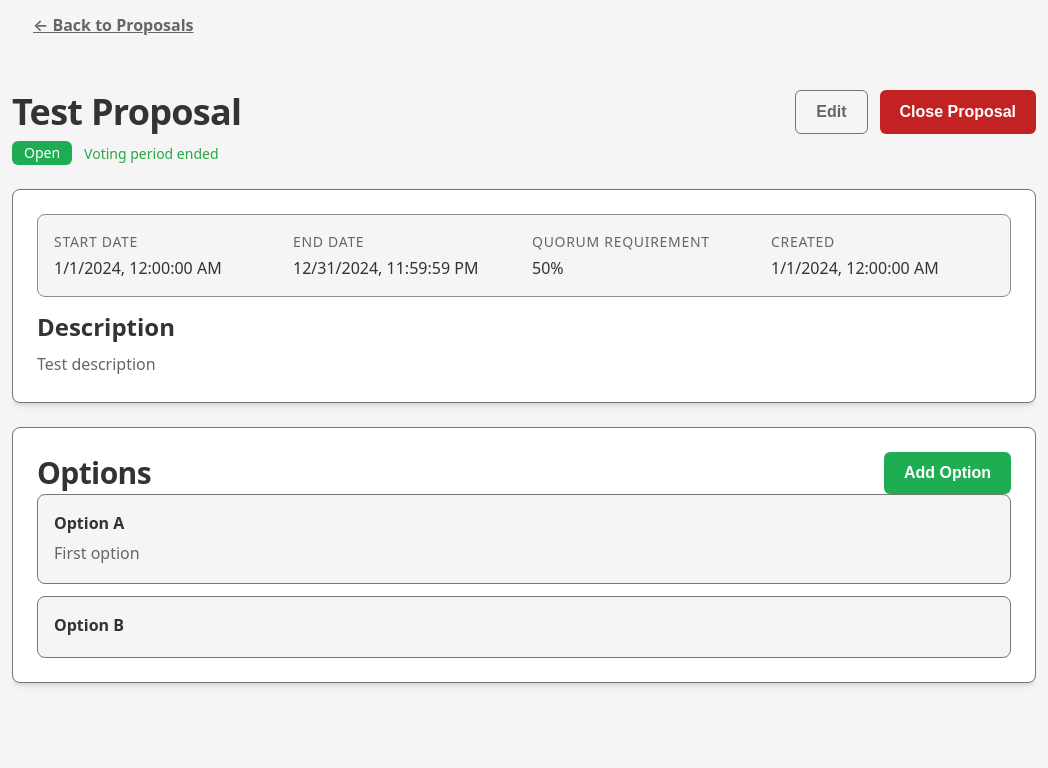
Test: AdminProposalDetailPage › enters edit mode when edit button clicked
This screenshot has width=1048, height=768.
What coordinates should you click on to do the following:
click the button "Edit"
I would click on:
 (831, 112)
Its box is [795, 90, 868, 134].
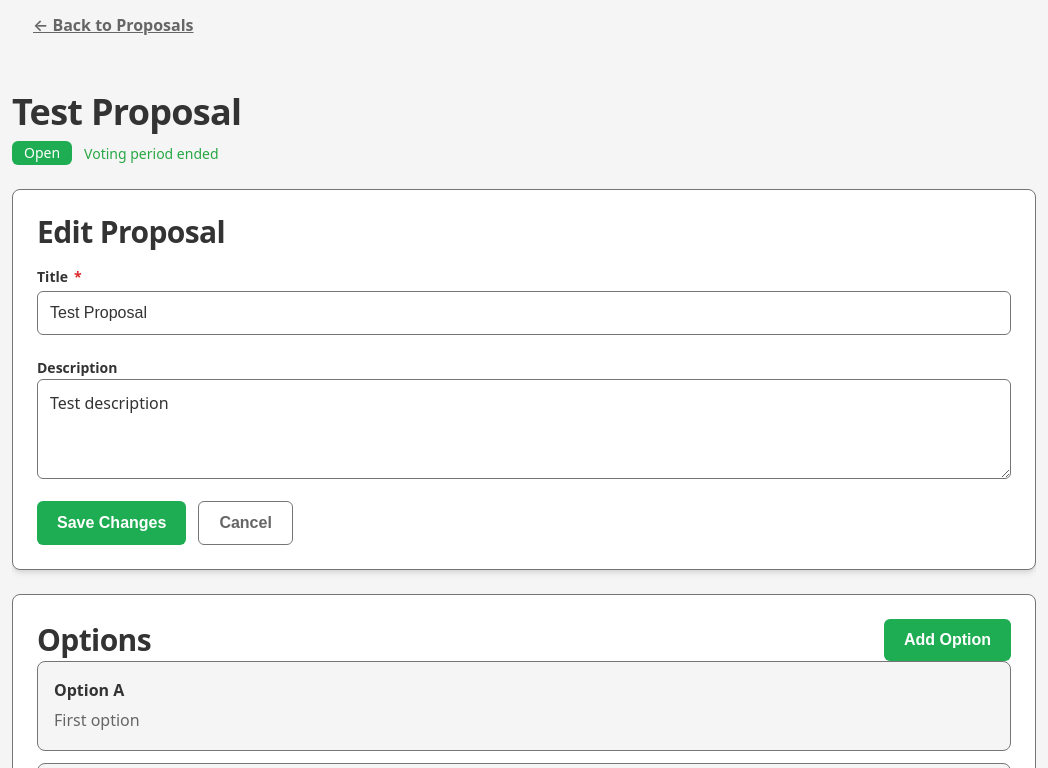
Now the heading "Edit Proposal" is shown, box [37, 211, 225, 252]
Now the field showing "Test Proposal" is shown, box [37, 291, 1011, 335]
